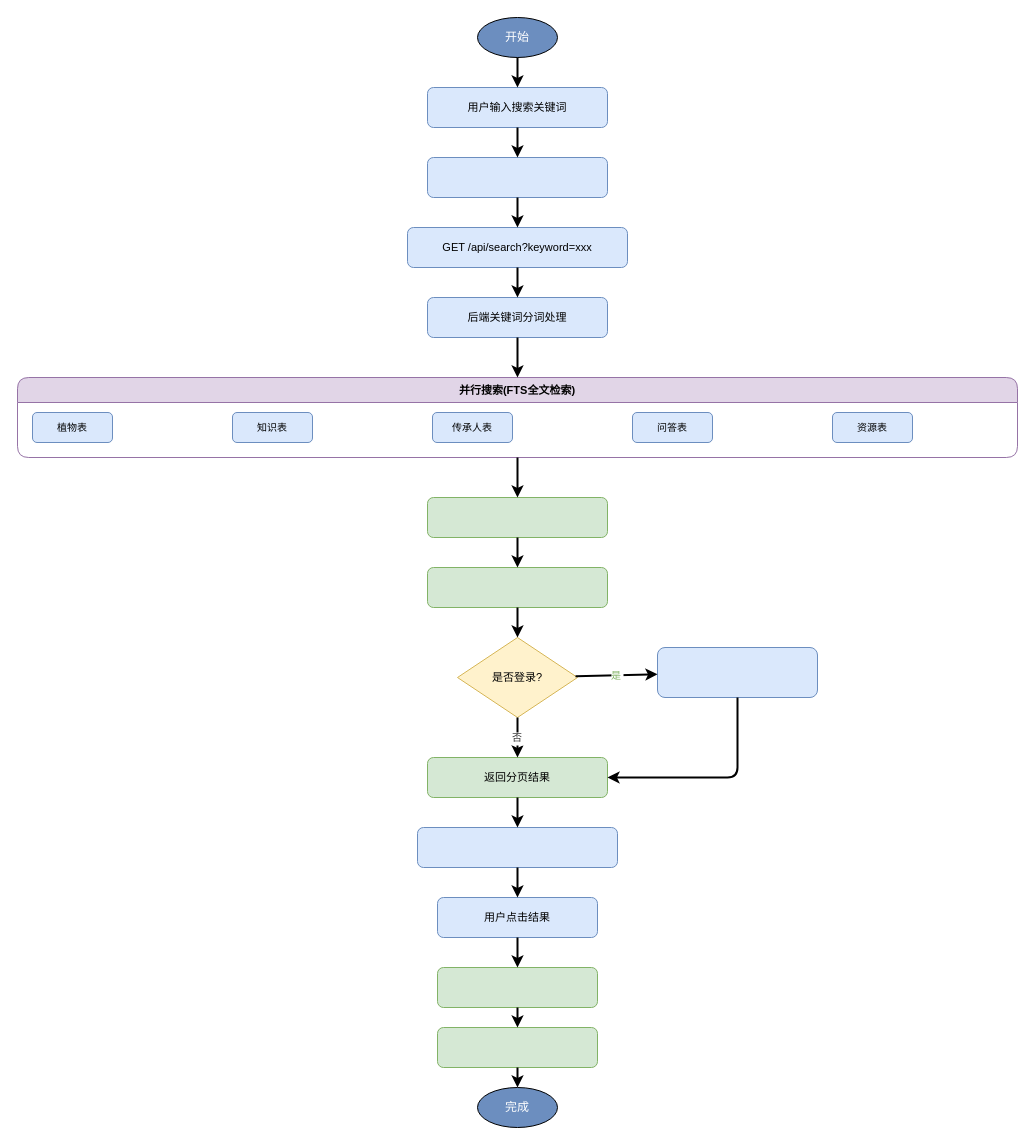
This 1035x1145 diagram has some shape labels left out. Here are the shapes that lost their labels. From the top down, the box of each, then its label:
(426, 156, 608, 198): 前端防抖处理(300ms)
(426, 496, 608, 538): 合并搜索结果
(426, 566, 608, 608): 按相关度+热度排序
(656, 646, 818, 698): 记录搜索历史 (search_history表)
(416, 826, 618, 868): 前端渲染搜索结果列表
(436, 966, 598, 1008): 跳转详情页
(436, 1026, 598, 1068): 记录浏览历史
